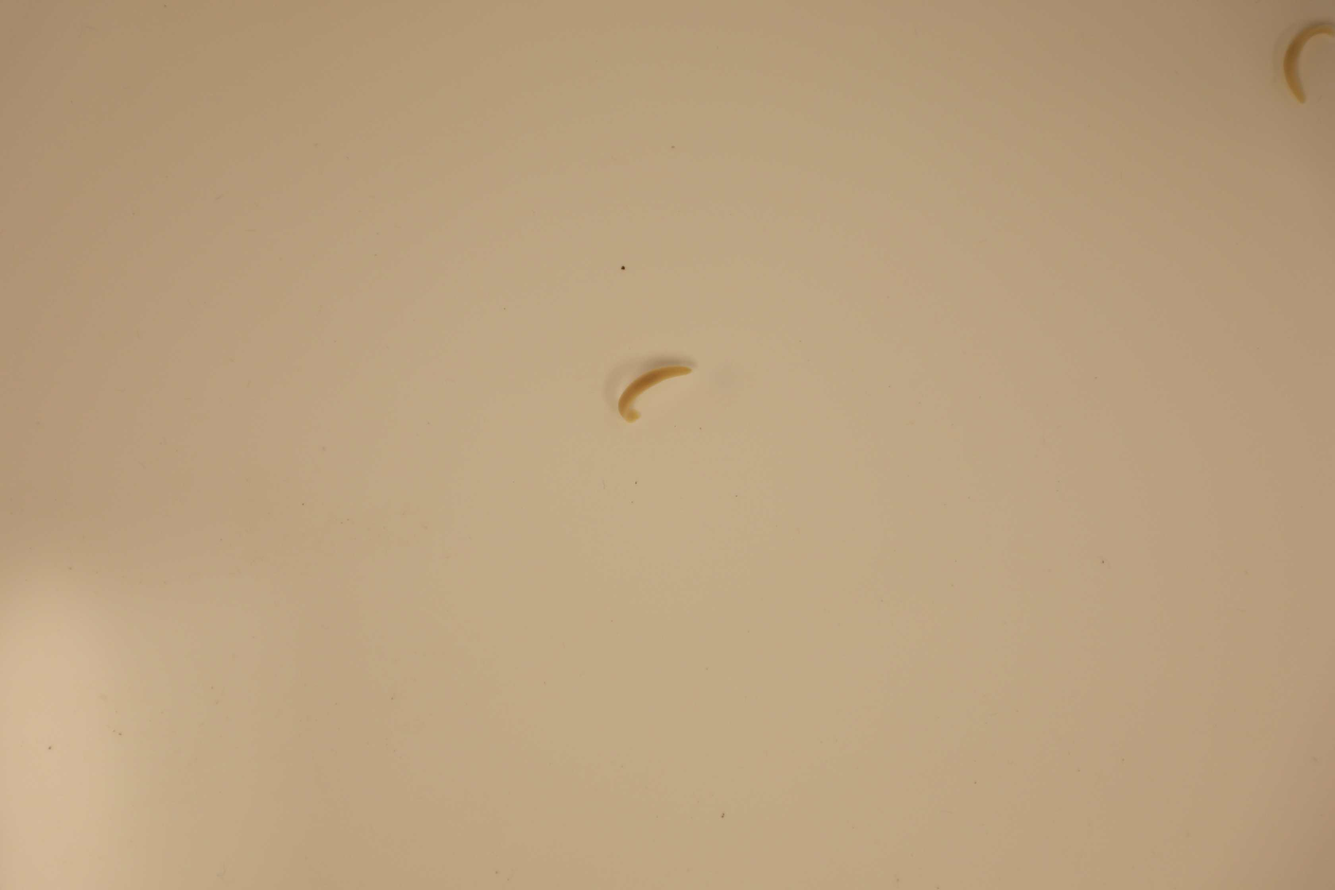Cadisfly: (613, 365, 691, 422), (1278, 22, 1330, 102)
